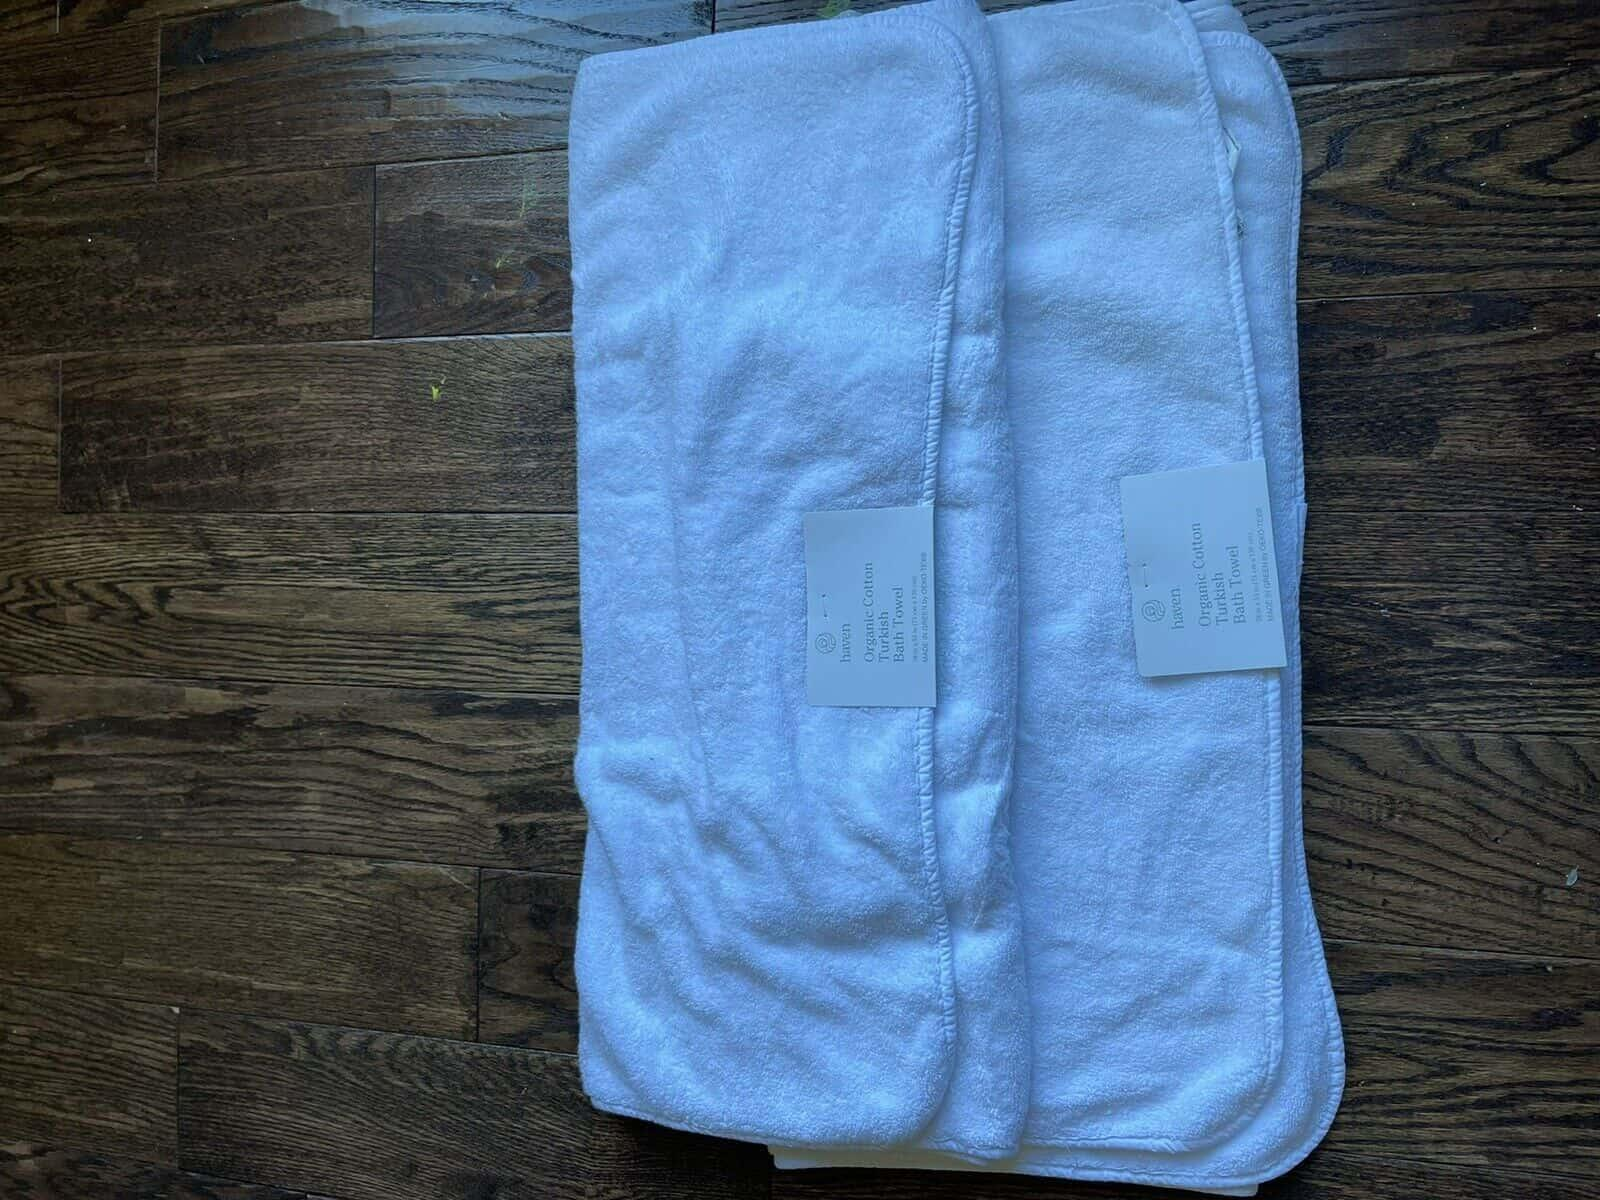towel: (569, 45, 1353, 1200)
